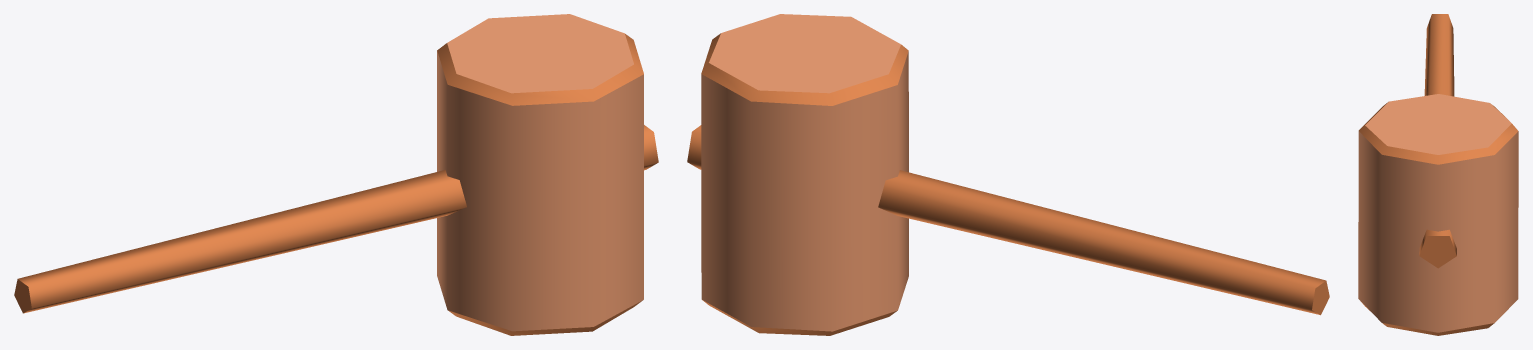
File: Molot.FBX
The picture shows the model from 3 angles, left to right: view 1: azimuth 30°, elevation 25°; view 2: azimuth 150°, elevation 25°; view 3: azimuth 270°, elevation 25°; orthographic projection. The views are drawn at different scales.
Visible parts, largest first — view 1: Molot; view 2: Molot; view 3: Molot.
Boxes of the visible parts, left/top/right/bottom form: Molot: left=14, top=14, right=658, bottom=335; Molot: left=687, top=14, right=1329, bottom=335; Molot: left=1358, top=14, right=1518, bottom=335.
Bounding box in the file's own units: 1.51 × 0.5642 × 0.4521.
